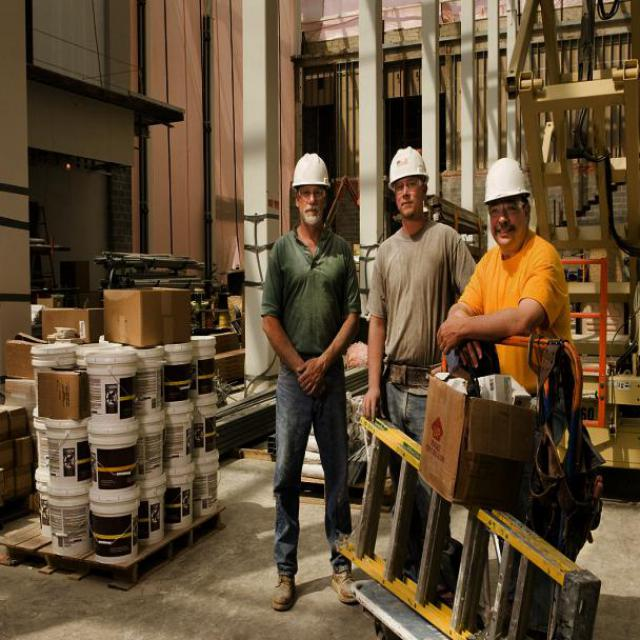helmet: (478, 136, 540, 252), (284, 143, 336, 231), (383, 140, 433, 226)
